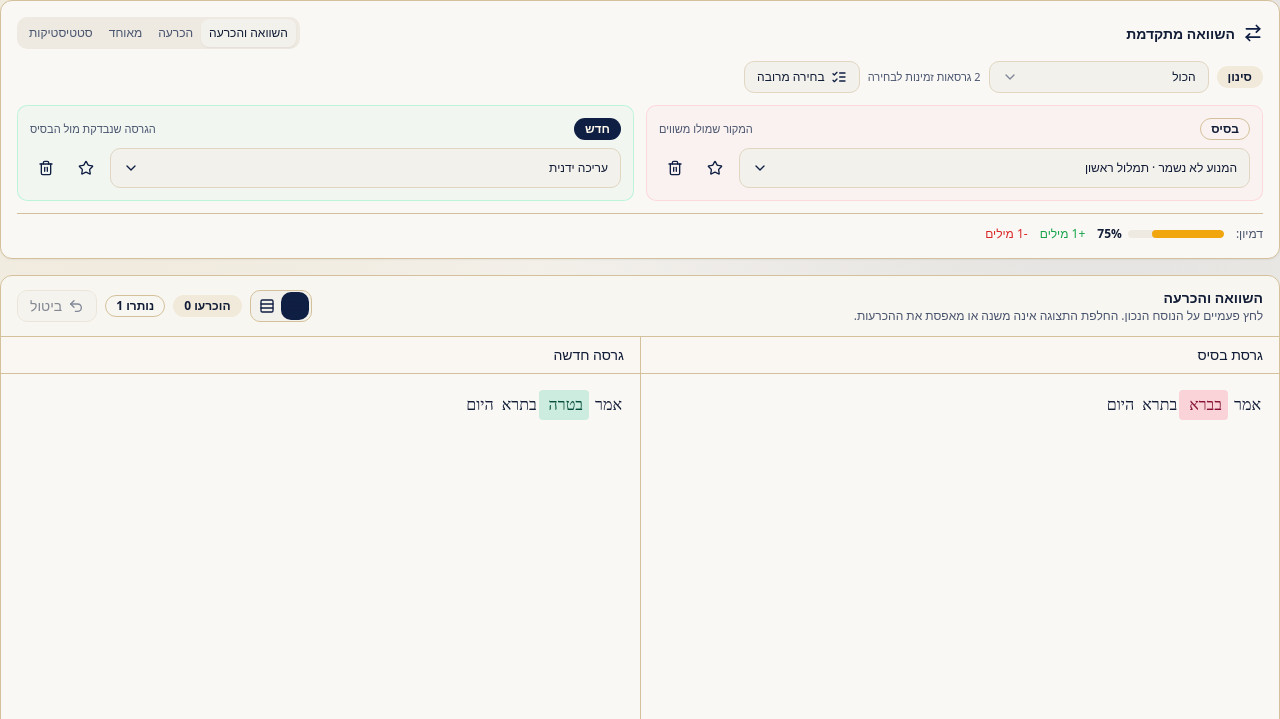
AdvancedDiffView adjudication › switches to the aligned layout and preserves its adjudication
This screenshot has width=1280, height=719.
Click the button named "תצוגה לפי הבדלים" at (266, 306), box [252,292,280,320]
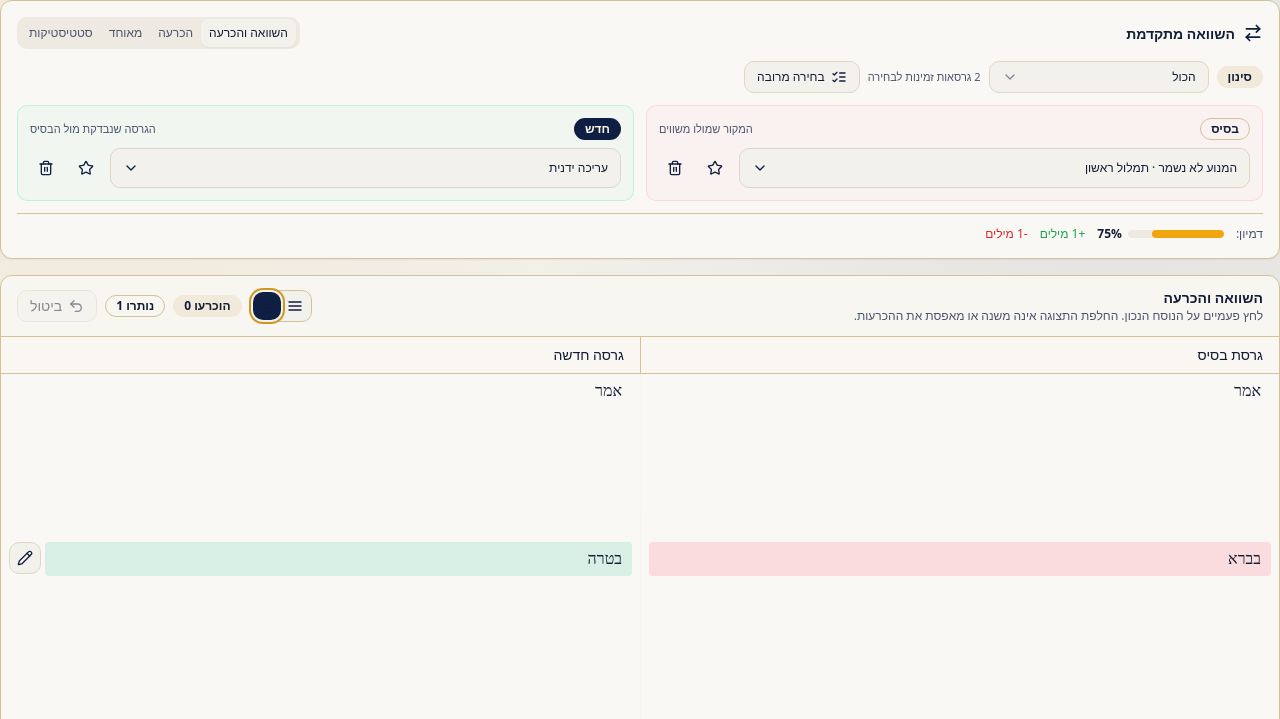
Double-click the button titled "לחץ פעמיים לאפשרויות אישור מגרסת הבסיס" at (1245, 558), box [649,542,1271,576]
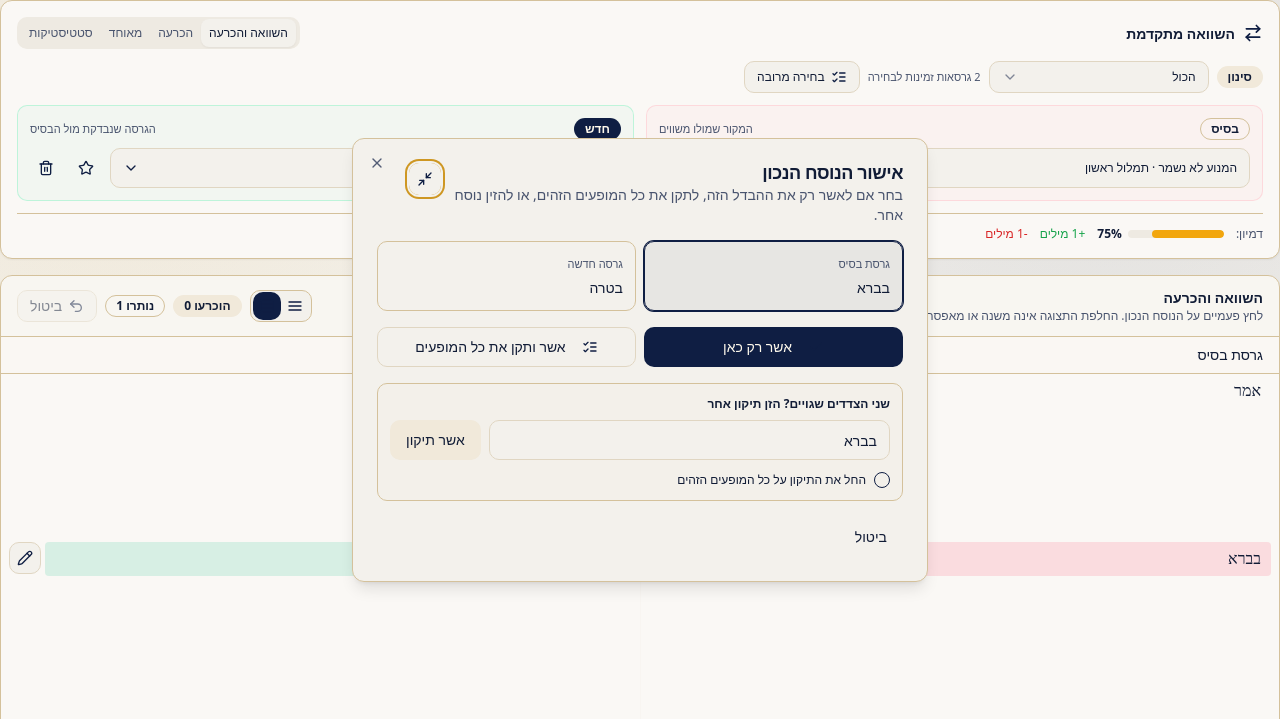
Check: the dialog with test id "quick-adjudication-dialog" is shown, box [352,138,928,582]
Click the button with test id "confirm-quick-once" at (774, 347), box [644,327,903,367]
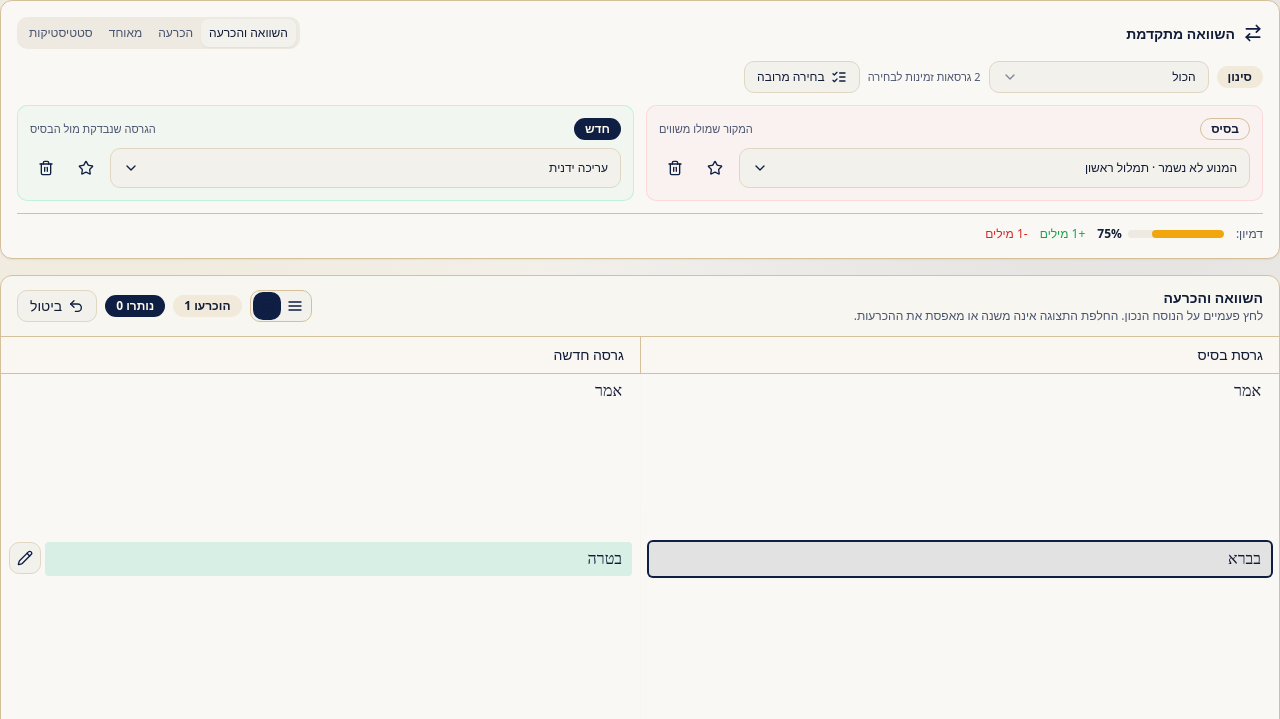
Click the button named "תצוגה רציפה" at (294, 306), box [280,292,308,320]
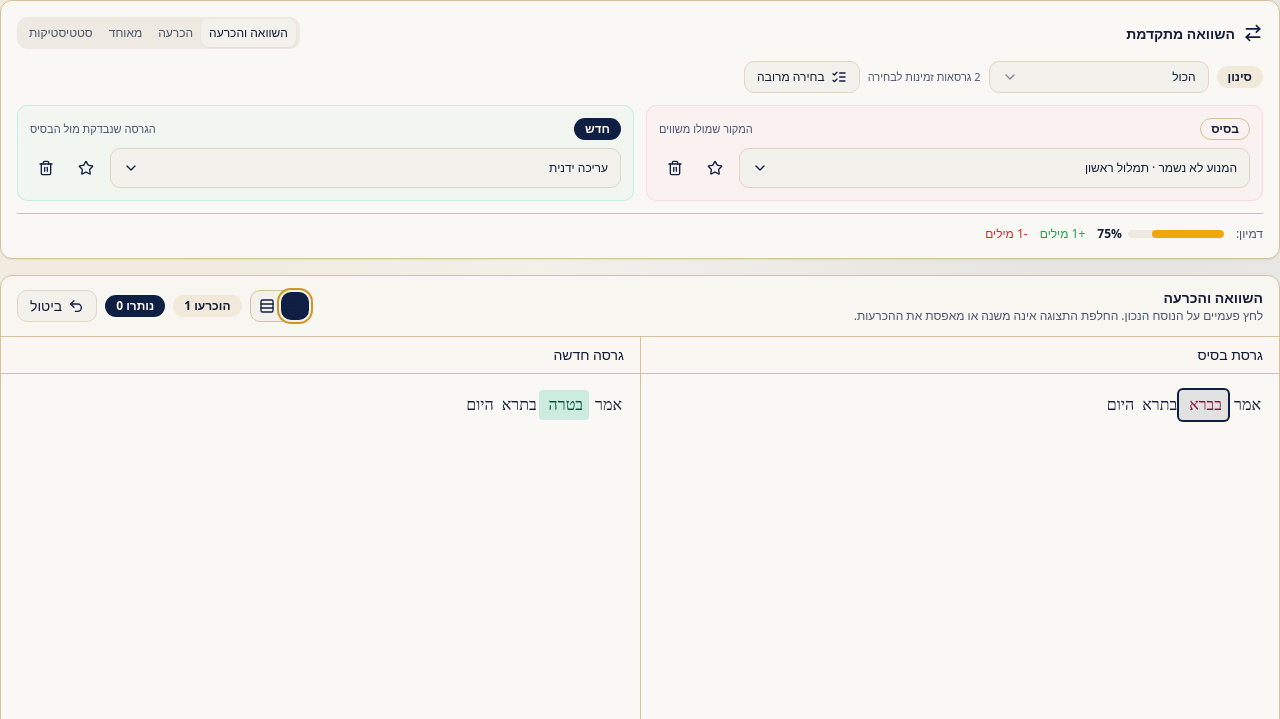
Check: the text "הוכרעו 1" is shown, box [173,295,242,317]
Click the tab "הכרעה" at (176, 33), box [150,19,201,47]
(page scrolled)
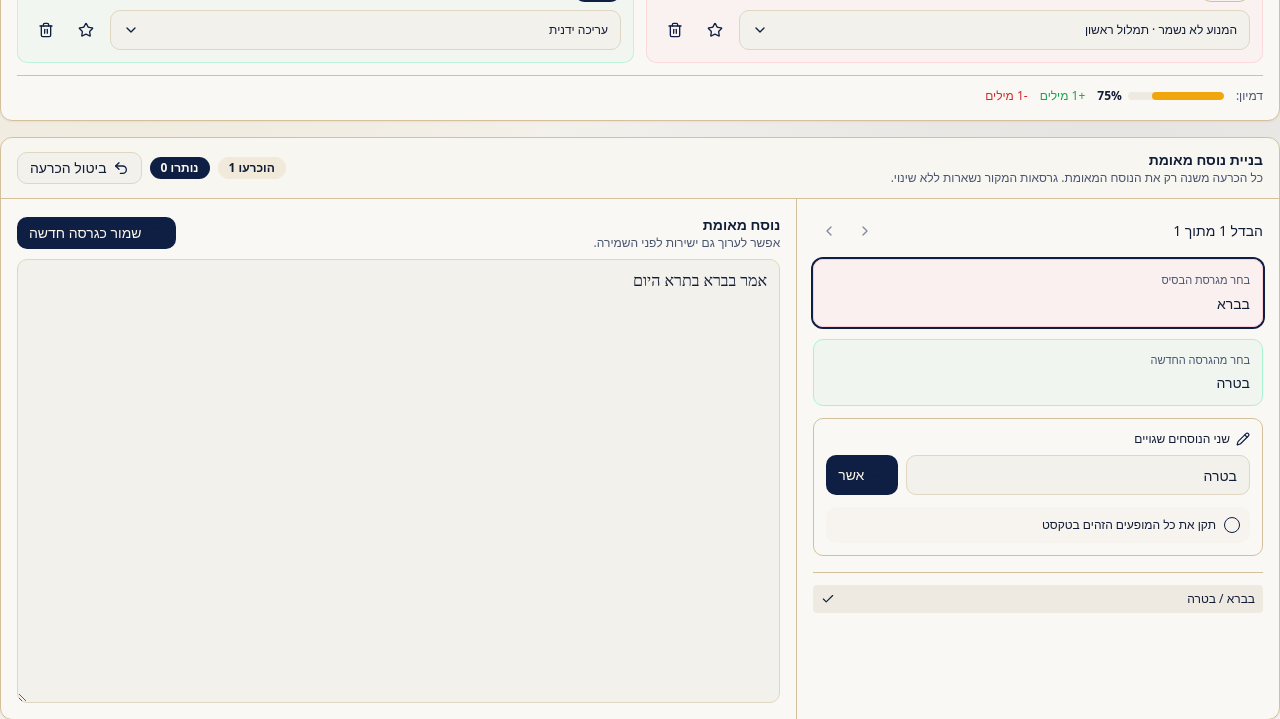
Check: the text box with test id "verified-text" holds "אמר בברא בתרא היום", box [17,259,780,703]
